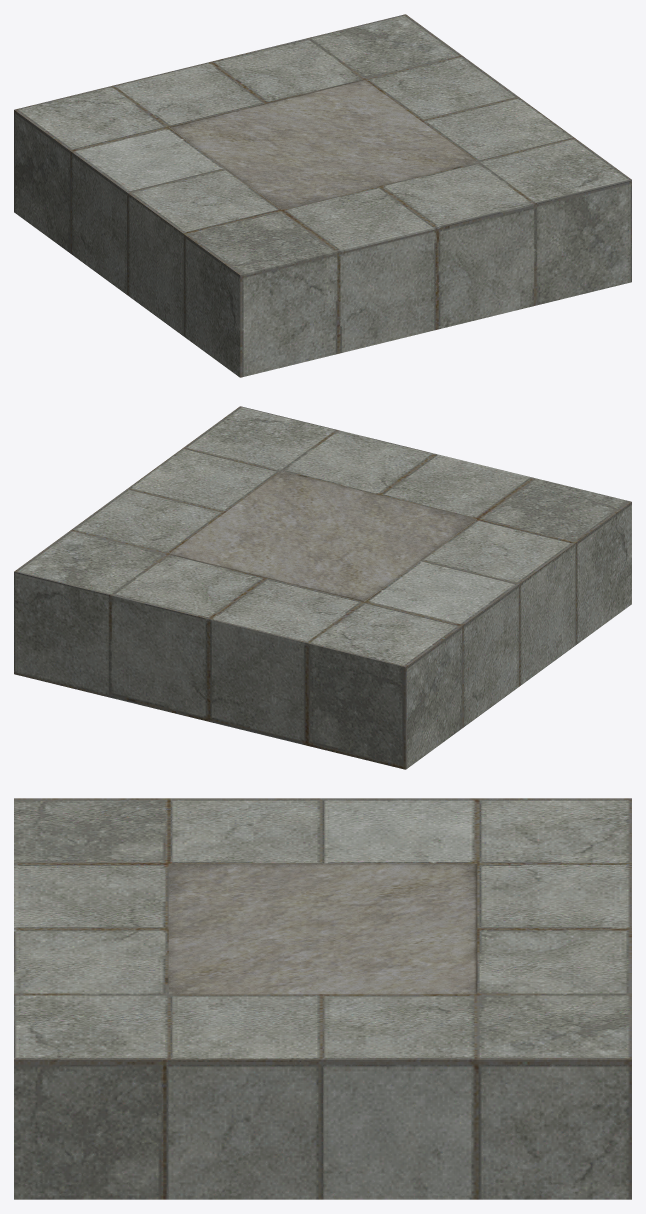
File: floor_block_2x2.fbx
3 views of the same model, one above another, from view 1: azimuth 30°, elevation 25°; view 2: azimuth 150°, elevation 25°; view 3: azimuth 270°, elevation 25° (orthographic). The views are drawn at different scales.
Visible parts, largest first — view 1: floor_block_2x2; view 2: floor_block_2x2; view 3: floor_block_2x2.
Part boxes in pixels (x1=…): floor_block_2x2: x1=14, y1=14, x2=631, y2=377; floor_block_2x2: x1=14, y1=406, x2=631, y2=769; floor_block_2x2: x1=14, y1=798, x2=631, y2=1199.
Bounding box in the file's own units: 200 × 50 × 200.
